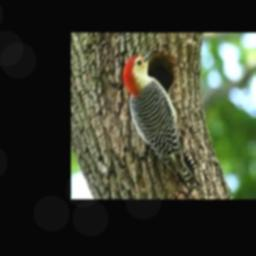Woodpecker: (123, 49, 203, 195)
